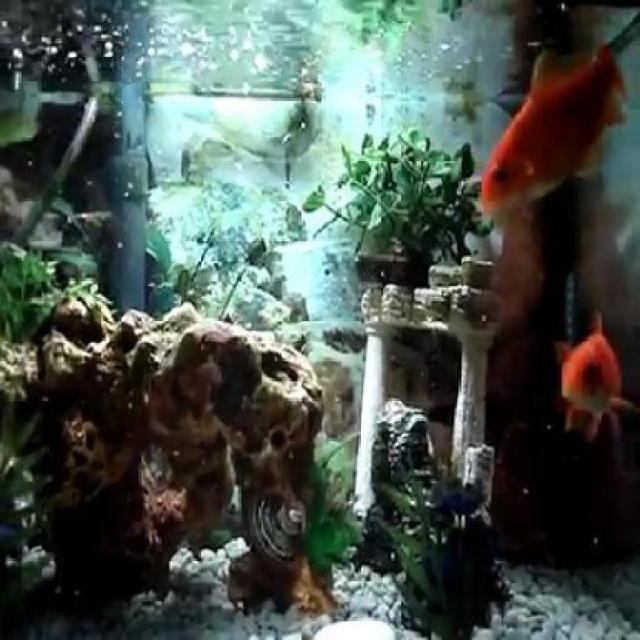GoldFish: (477, 28, 638, 224), (557, 302, 638, 436)
